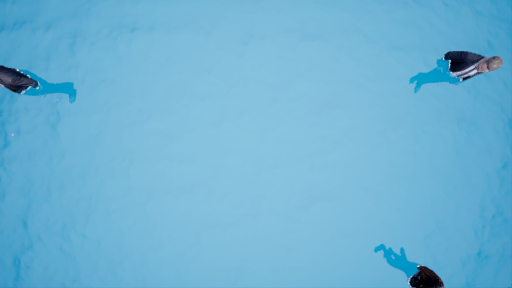person: (404, 42, 505, 97), (372, 234, 448, 288), (1, 61, 91, 106)
